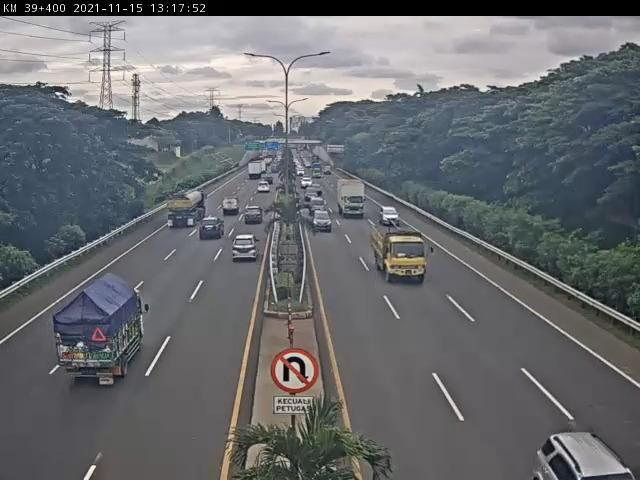car: (233, 236, 261, 263), (200, 217, 226, 242), (314, 210, 334, 232), (382, 205, 401, 225), (245, 207, 266, 225), (223, 197, 241, 215)
truck: (56, 271, 148, 381), (369, 224, 435, 286), (168, 190, 211, 229), (337, 179, 369, 220)
